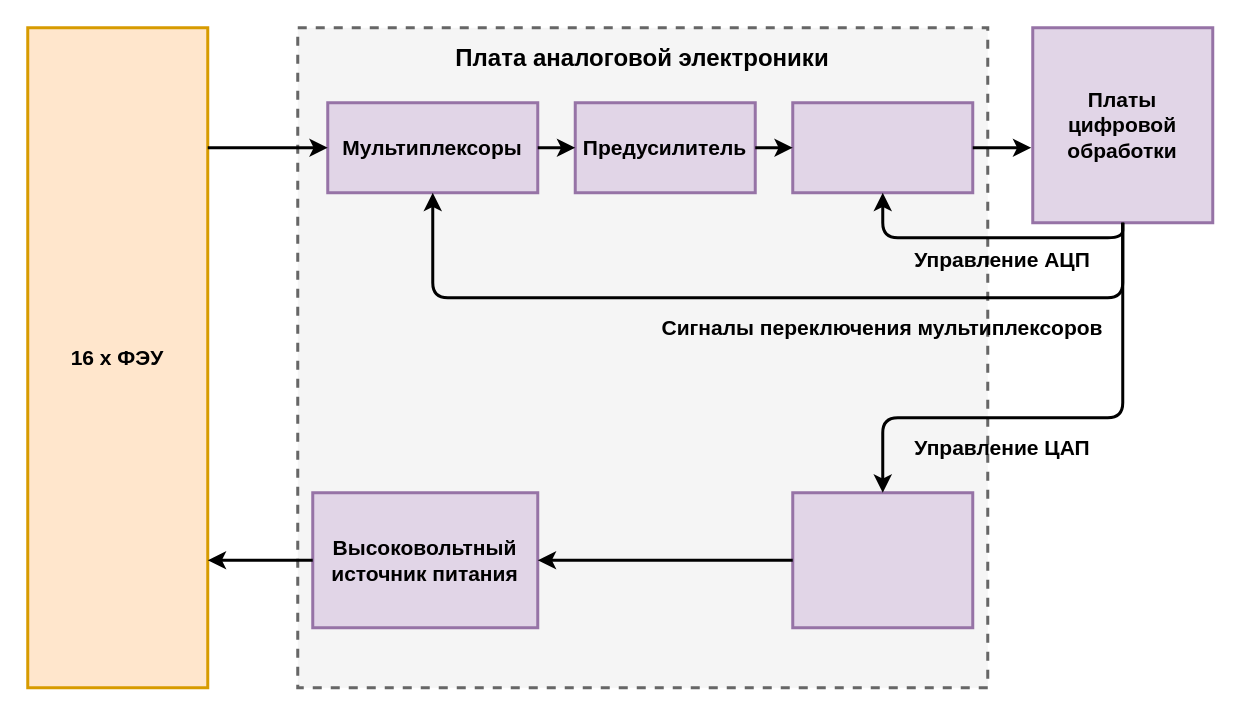
Image size: 1239x714. Some labels were removed from this diagram. The centre of each missing label's shape, as x and y in pixels:
"АЦП" goes at (x=882, y=147).
"ЦАП" goes at (x=882, y=559).
